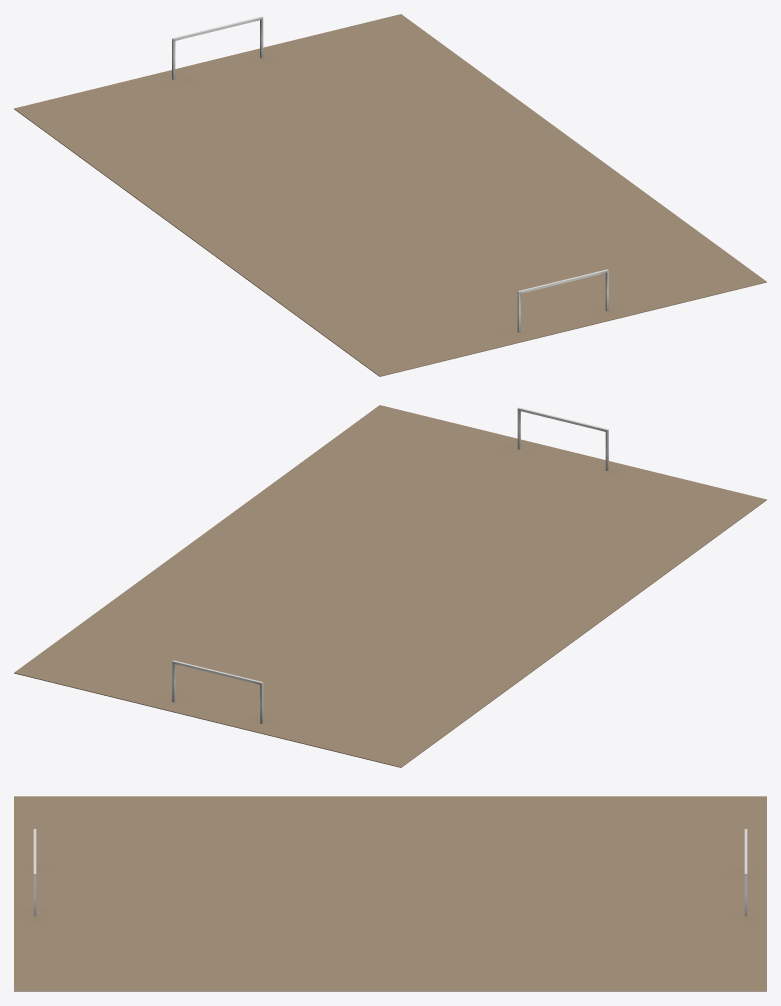
Rendered from traves.glb.
3 views of the same model, one above another, from view 1: azimuth 30°, elevation 25°; view 2: azimuth 150°, elevation 25°; view 3: azimuth 270°, elevation 25° (orthographic). The views are drawn at different scales.
Parts seen in each view (by area): view 1: terra, trave_2, trave_0; view 2: terra, trave_0, trave_2; view 3: terra, trave_0, trave_2.
Boxes of the visible parts, box(x1,y1,x2,y2) form: terra: box(14, 14, 766, 376); trave_2: box(172, 16, 263, 79); trave_0: box(517, 269, 608, 332); terra: box(14, 405, 766, 767); trave_0: box(517, 407, 608, 470); trave_2: box(172, 660, 263, 723); terra: box(14, 796, 766, 991); trave_0: box(33, 829, 36, 916); trave_2: box(744, 829, 747, 916).
Size of what is drawn, in the model's own units: 22 by 2.26 by 36.
